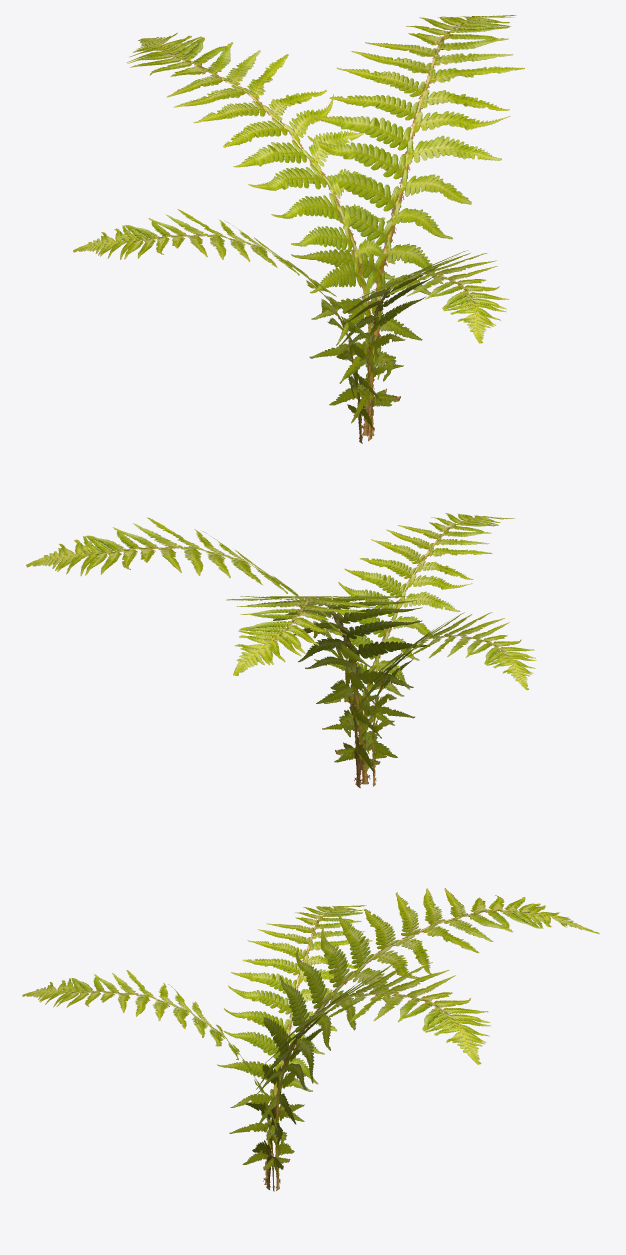
Rendered from plant-2.fbx.
The picture shows the model from 3 angles, top to bottom: view 1: azimuth 30°, elevation 25°; view 2: azimuth 150°, elevation 25°; view 3: azimuth 270°, elevation 25°; orthographic projection. The views are drawn at different scales.
Visible parts, largest first — view 1: Mesh; view 2: Mesh; view 3: Mesh.
Part boxes in pixels (x1,y1,x2,y2): Mesh: (73,15,524,443); Mesh: (26,513,536,788); Mesh: (22,888,599,1191).
Size of the model in its own units: 200 by 107 by 225.
